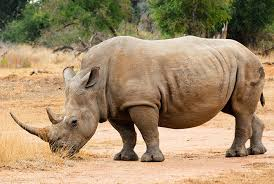Rhinoceros: (4, 32, 267, 162)
